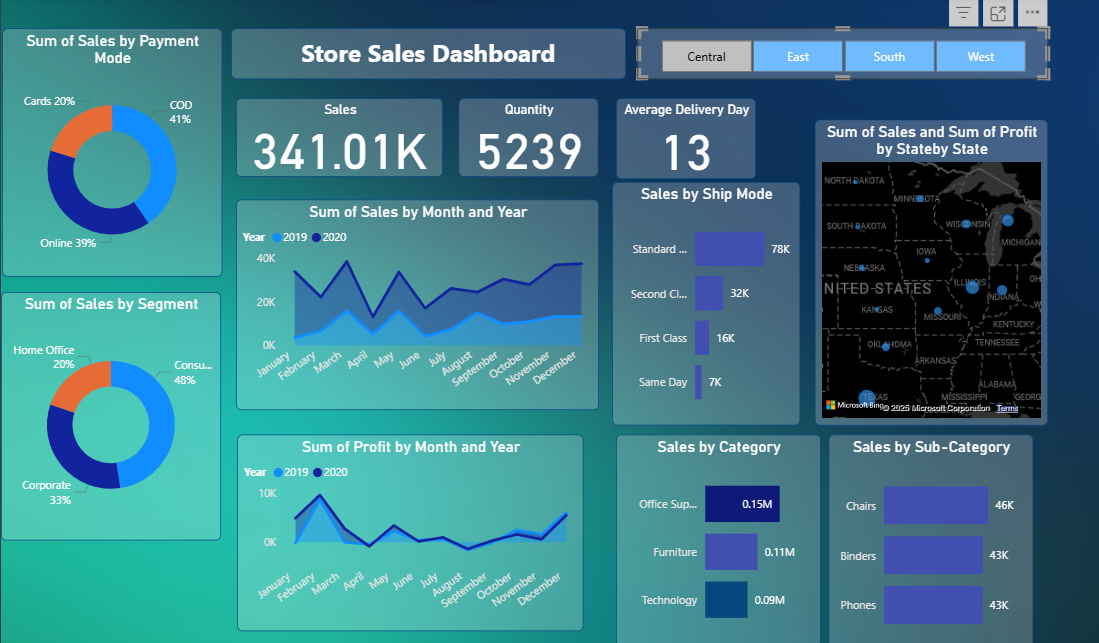

The dashboard page shown, as its layout file describes it:
{"tool":"powerbi","page":{"name":"Page 1","canvas":[1280,720],"ordinal":0},"visuals":[{"type":"clusteredBarChart","title":"Sales by Category","fields":{"Category":["SuperStore_Sales_Dataset.Category"],"Y":["Sum(SuperStore_Sales_Dataset.Sales)"]},"box":[675,480,225,232.5],"z":0},{"type":"clusteredBarChart","title":"Sales by Sub-Category","fields":{"Y":["Sum(SuperStore_Sales_Dataset.Sales)"],"Category":["SuperStore_Sales_Dataset.Sub-Category"]},"box":[908.8,480,225,240],"z":1000},{"type":"clusteredBarChart","title":"Sales by Ship Mode","fields":{"Category":["SuperStore_Sales_Dataset.Ship Mode"],"Y":["Sum(SuperStore_Sales_Dataset.Sales)"]},"box":[671.2,203.8,206.2,267.5],"z":2000},{"type":"stackedAreaChart","fields":{"Category":["SuperStore_Sales_Dataset.Order Date.Variation.Date Hierarchy.Month","SuperStore_Sales_Dataset.Order Date.Variation.Date Hierarchy.Day"],"Y":["Sum(SuperStore_Sales_Dataset.Sales)"],"Series":["SuperStore_Sales_Dataset.Order Date.Variation.Date Hierarchy.Year"]},"box":[257.5,222.5,398.8,231.2],"z":3000},{"type":"stackedAreaChart","fields":{"Category":["SuperStore_Sales_Dataset.Order Date.Variation.Date Hierarchy.Month","SuperStore_Sales_Dataset.Order Date.Variation.Date Hierarchy.Day"],"Series":["SuperStore_Sales_Dataset.Order Date.Variation.Date Hierarchy.Year"],"Y":["Sum(SuperStore_Sales_Dataset.Profit)"]},"box":[260,480,380,216.2],"z":4000},{"type":"map","title":"Sum of Sales and Sum of Profit by Stateby State","fields":{"Category":["SuperStore_Sales_Dataset.State"],"Size":["Sum(SuperStore_Sales_Dataset.Sales)"]},"box":[893.8,135,256.2,336.2],"z":4002},{"type":"donutChart","fields":{"Category":["SuperStore_Sales_Dataset.Payment Mode"],"Y":["Sum(SuperStore_Sales_Dataset.Sales)"]},"box":[1.2,33.8,241.2,272.5],"z":4004},{"type":"donutChart","fields":{"Category":["SuperStore_Sales_Dataset.Segment"],"Y":["Sum(SuperStore_Sales_Dataset.Sales)"]},"box":[0,323.8,241.2,272.5],"z":4005},{"type":"slicer","fields":{"Values":["SuperStore_Sales_Dataset.Region"]},"box":[698.8,33.8,451.2,56.2],"z":4006},{"type":"textbox","box":[252.5,33.8,433.8,56.2],"z":4007},{"type":"card","title":"Sales","fields":{"Values":["Sum(SuperStore_Sales_Dataset.Sales)"]},"box":[257.5,111.2,227.5,86.2],"z":4008},{"type":"card","title":"Quantity","fields":{"Values":["Sum(SuperStore_Sales_Dataset.Quantity)"]},"box":[502.5,111.2,153.8,86.2],"z":4009},{"type":"card","title":"Average Delivery Day","fields":{"Values":["Avg(SuperStore_Sales_Dataset.AvgDelivery)"]},"box":[675,111.2,153.8,88.8],"z":4010}]}

Visuals, with their boxes on the page's 1280x720 design canvas (x1, y1, x2, y2). These are canvas units, not pixel positions in the 1099x643 screenshot, which may show the page scaled, cropped or inside an application window:
"Sales by Category" clusteredBarChart: region(675, 480, 900, 712)
"Sales by Sub-Category" clusteredBarChart: region(909, 480, 1134, 720)
"Sales by Ship Mode" clusteredBarChart: region(671, 204, 877, 471)
stackedAreaChart - SuperStore_Sales_Dataset.Order Date.Variation.Date Hierarchy.Month x SuperStore_Sales_Dataset.Order Date.Variation.Date Hierarchy.Day: region(258, 222, 656, 454)
stackedAreaChart - SuperStore_Sales_Dataset.Order Date.Variation.Date Hierarchy.Month x SuperStore_Sales_Dataset.Order Date.Variation.Date Hierarchy.Day: region(260, 480, 640, 696)
"Sum of Sales and Sum of Profit by Stateby State" map: region(894, 135, 1150, 471)
donutChart - SuperStore_Sales_Dataset.Payment Mode x Sum(SuperStore_Sales_Dataset.Sales): region(1, 34, 242, 306)
donutChart - SuperStore_Sales_Dataset.Segment x Sum(SuperStore_Sales_Dataset.Sales): region(0, 324, 241, 596)
slicer - SuperStore_Sales_Dataset.Region: region(699, 34, 1150, 90)
textbox: region(252, 34, 686, 90)
"Sales" card: region(258, 111, 485, 197)
"Quantity" card: region(502, 111, 656, 197)
"Average Delivery Day" card: region(675, 111, 829, 200)
